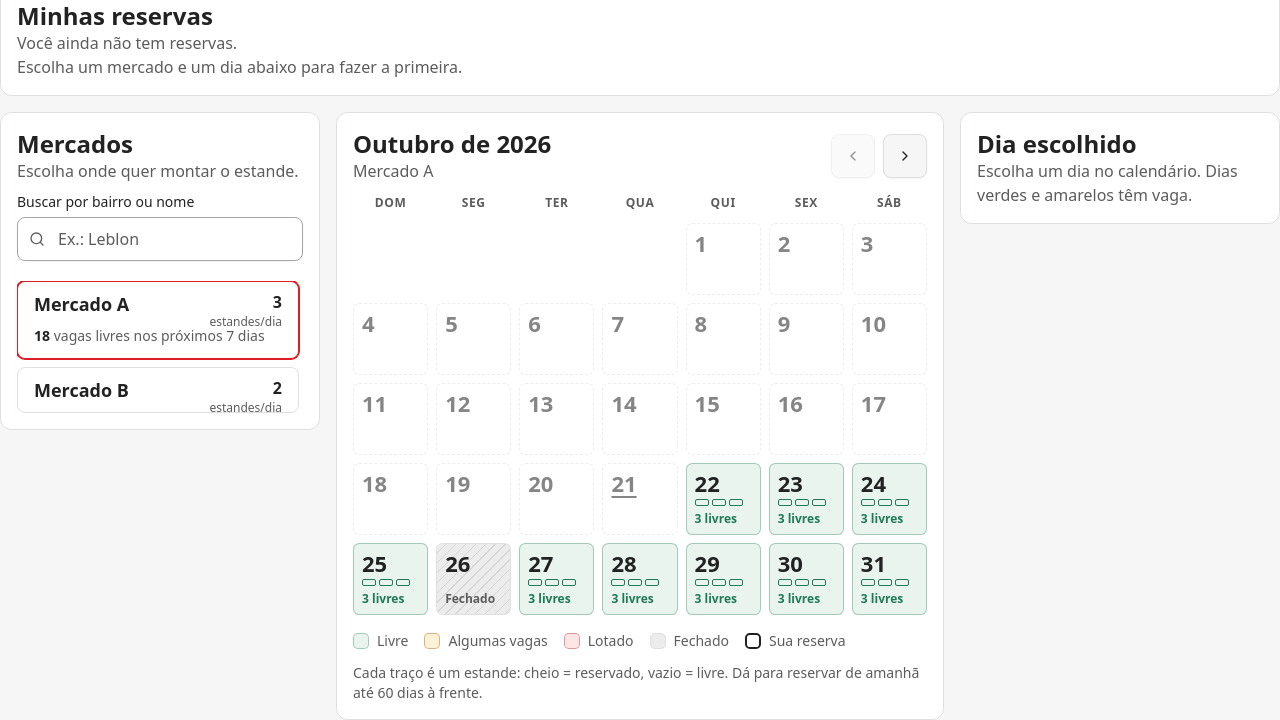
Test: SupplierScreen: reservar › dia fechado explica e não deixa reservar
(page scrolled)
Click the button with aria-label "Segunda-feira, 26 de outubro: fechado". click: {"x": 474, "y": 579}
box: [436,543,511,615]
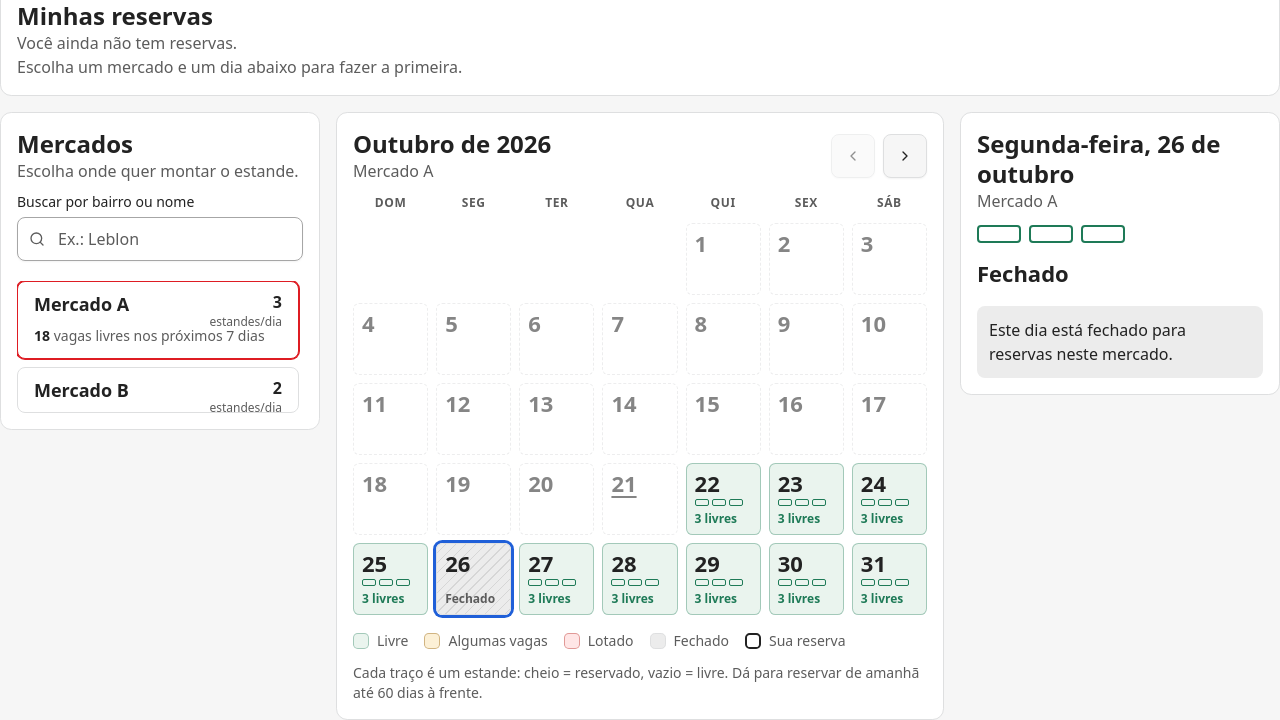
Expected: the text "Este dia está fechado para reservas neste mercado." is shown, [977,306,1263,378]
Expected: the text "Fechado" below "Segunda-feira, 26 de outubro" is shown, [977,258,1069,288]
